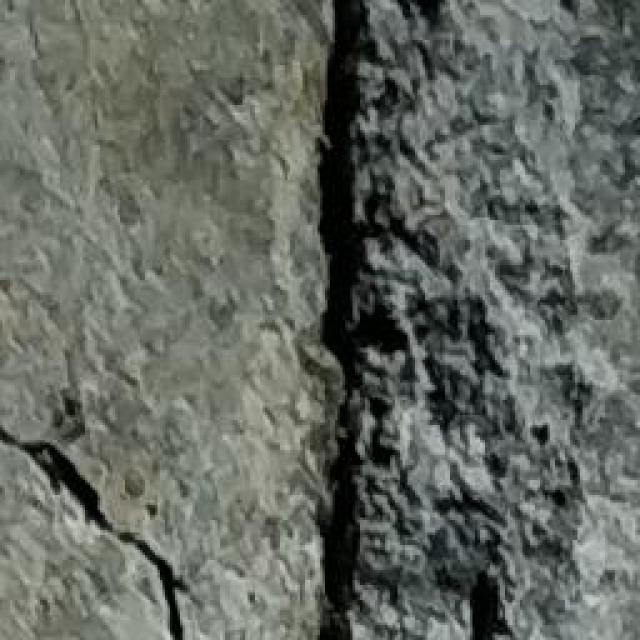Diagonal: (0, 400, 170, 638)
Longitudinal: (272, 0, 508, 640)
